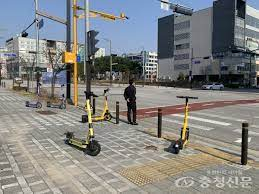guide_blocks: (188, 141, 234, 162), (119, 166, 168, 184), (155, 159, 199, 171), (148, 128, 177, 140)
kick_board: (66, 92, 100, 154), (173, 96, 198, 152), (47, 85, 66, 106), (27, 81, 41, 106)
kick_handler: (176, 95, 198, 103), (83, 91, 98, 98), (102, 87, 109, 93)
kick_neck: (86, 103, 95, 135), (183, 103, 189, 130), (104, 96, 109, 111)
kick_wheel: (86, 141, 100, 155), (65, 133, 72, 144), (173, 141, 179, 153), (36, 103, 42, 109), (60, 103, 67, 108)
